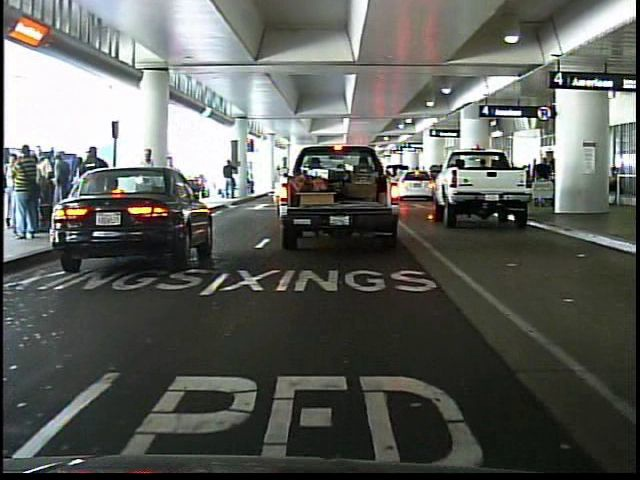person: (74, 141, 110, 228), (133, 145, 161, 230), (163, 155, 193, 229), (163, 150, 186, 223), (221, 158, 239, 200)
